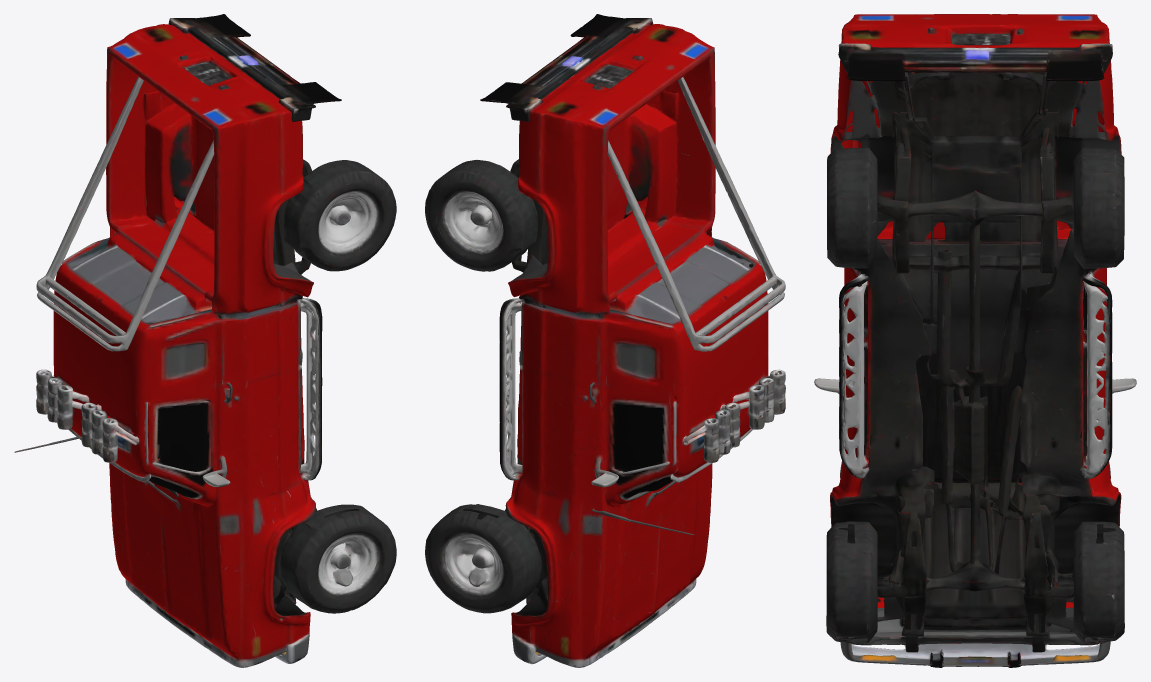
File: truck.glb
3 renders of one model, left to right at view 1: azimuth 30°, elevation 25°; view 2: azimuth 150°, elevation 25°; view 3: azimuth 270°, elevation 25°, orthographic. The views are drawn at different scales.
Visible parts, largest first — view 1: body; view 2: body; view 3: body.
Boxes of the visible parts, box(x1,y1,x2,y2) form: body: box(14, 14, 396, 667); body: box(425, 14, 785, 667); body: box(814, 14, 1136, 667).
Size of the model in its own units: 0.5751 by 1.18 by 0.5563.
Materials: 1 (1 with a texture image).
